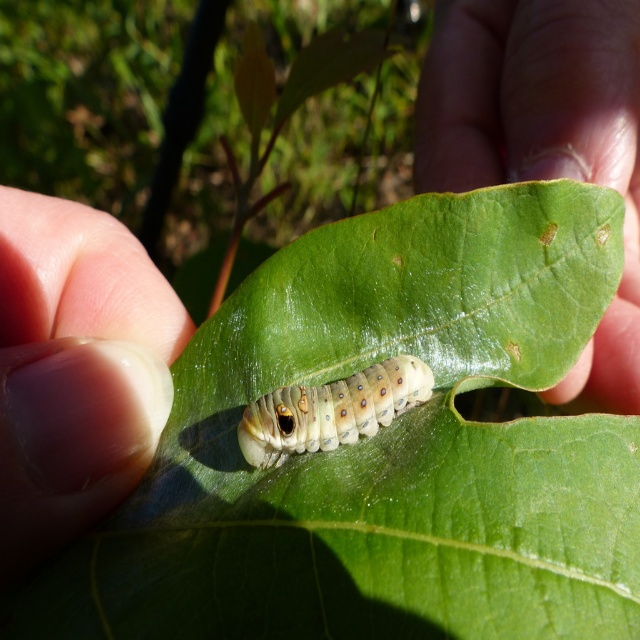Caterpillar: (235, 351, 435, 469)
